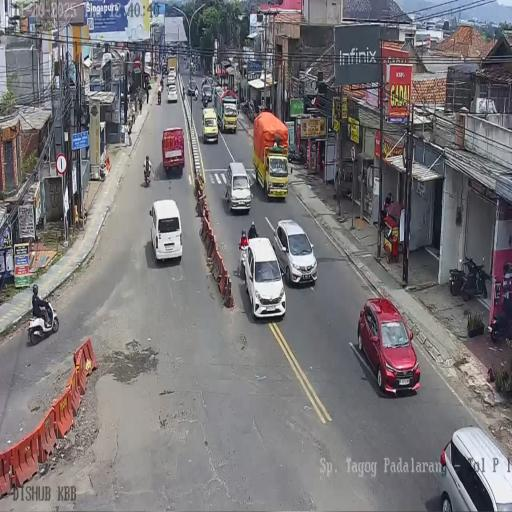car: (438, 424, 512, 509), (358, 298, 420, 394), (242, 236, 286, 319), (275, 218, 319, 285), (150, 199, 182, 263), (225, 161, 251, 213), (202, 107, 218, 144), (201, 79, 213, 106), (167, 84, 178, 103), (187, 81, 197, 96), (168, 66, 176, 80)
motorcycle: (490, 268, 512, 340), (28, 298, 59, 346), (448, 253, 472, 296), (287, 147, 304, 164), (144, 163, 151, 186), (240, 99, 249, 115), (157, 91, 162, 105)
truck: (251, 110, 287, 200), (214, 85, 238, 134), (162, 127, 185, 172), (144, 52, 151, 78), (162, 64, 168, 76)
